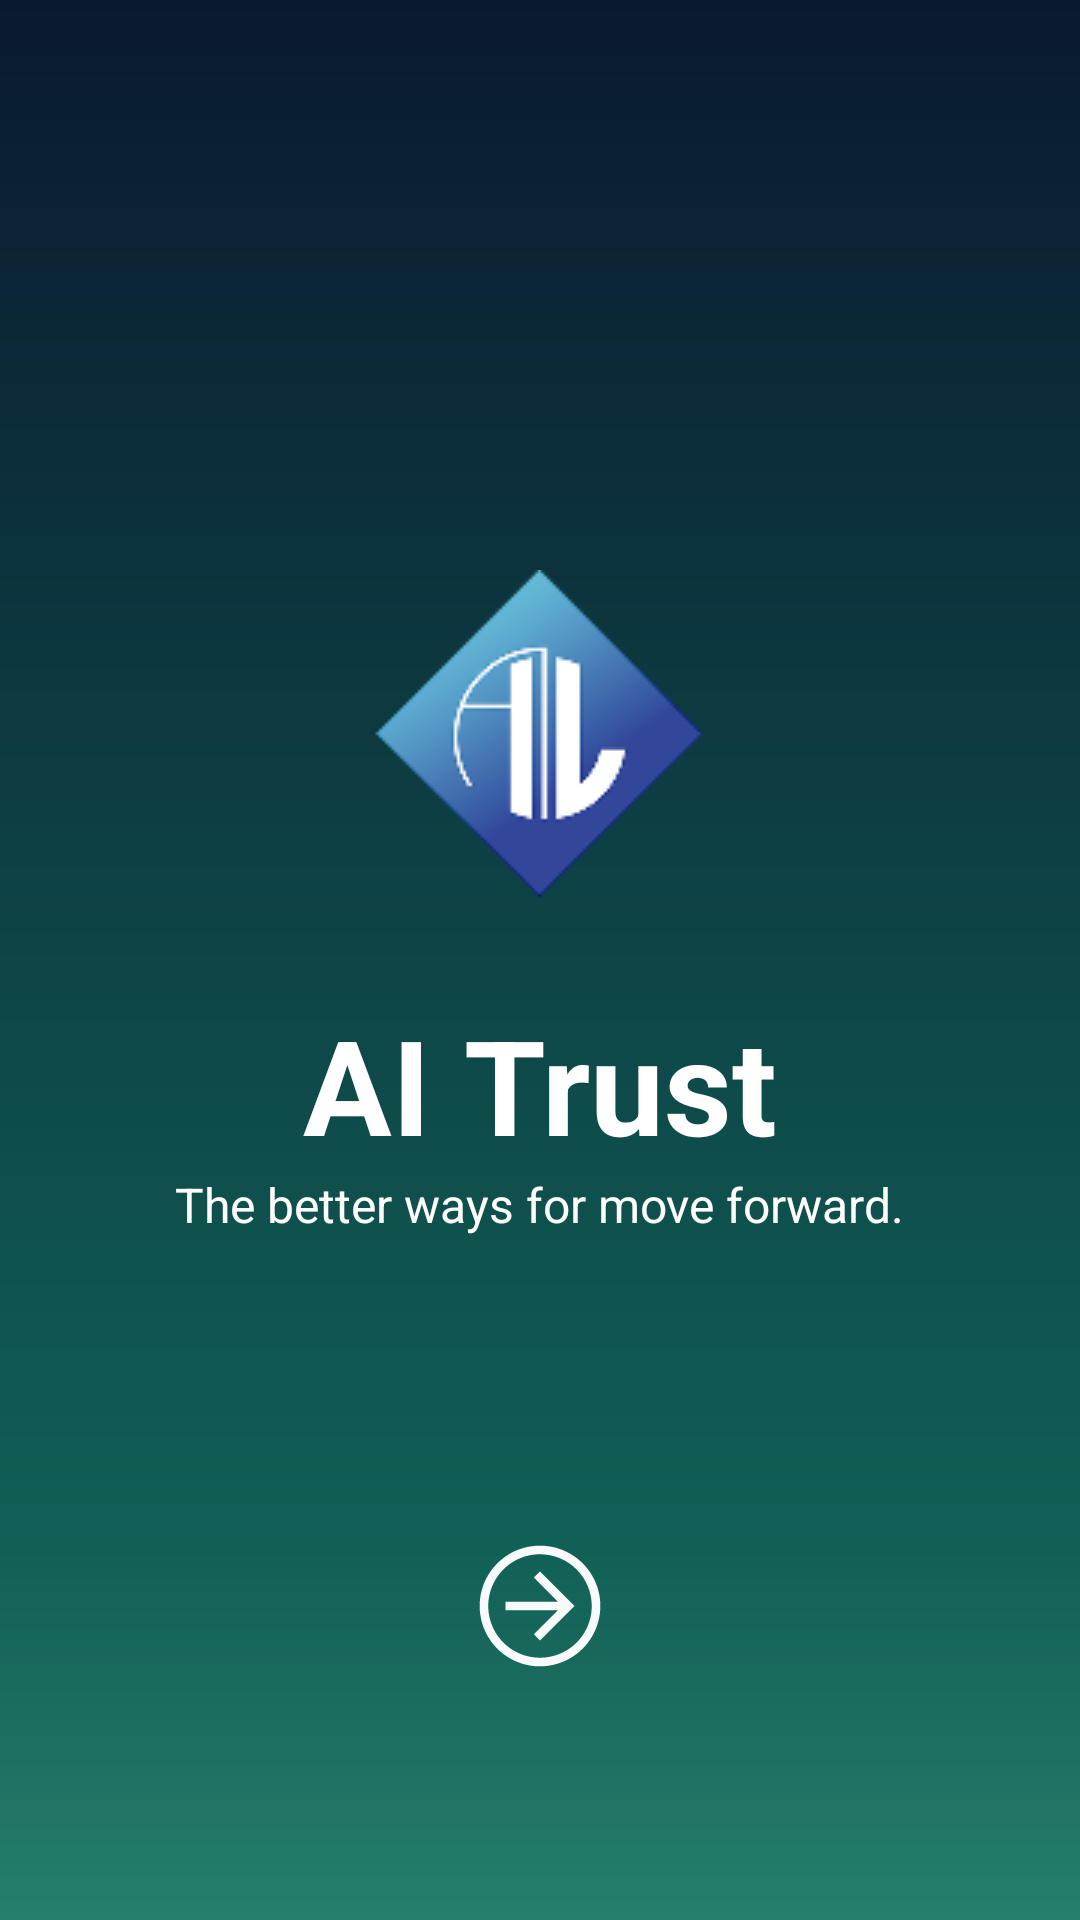

Icon bounding boxes for this 1080x1920 phone screenshot, format (x1, y1, x2, y2):
arrow: (479, 1545, 601, 1667)
